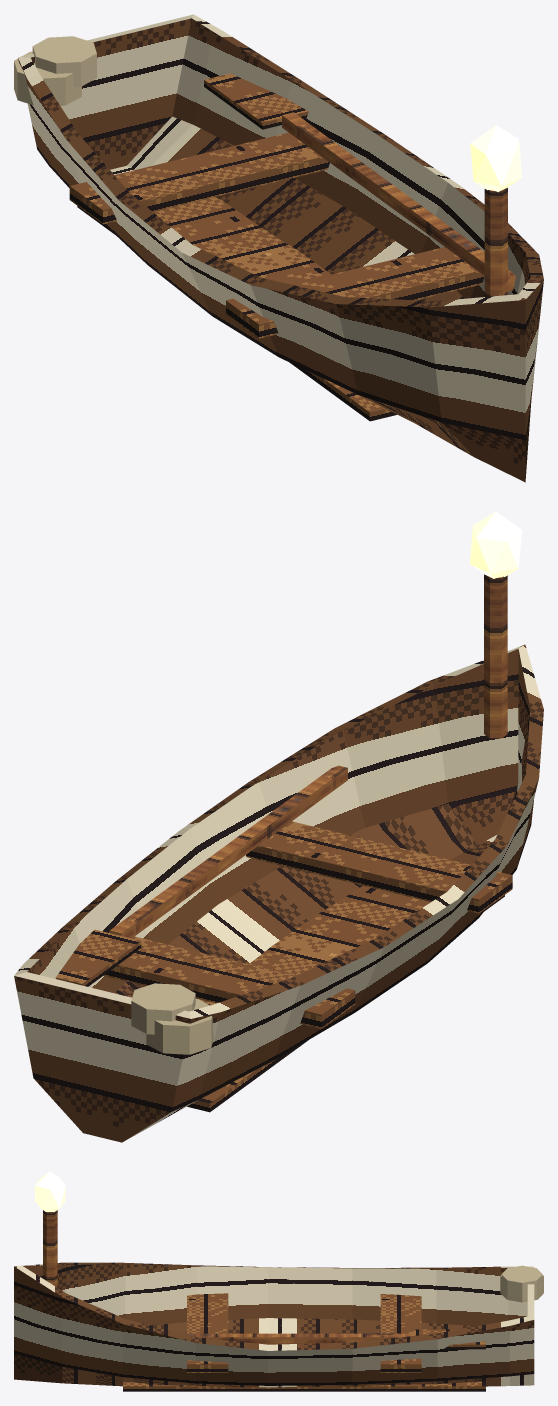
File: safari_boat.glb
3 views of the same model, one above another, from view 1: azimuth 30°, elevation 25°; view 2: azimuth 150°, elevation 25°; view 3: azimuth 270°, elevation 25° (orthographic). The views are drawn at different scales.
Visible parts, largest first — view 1: Boat, Glow; view 2: Boat, Glow; view 3: Boat, Glow.
Boxes of the visible parts, x1=… form: Boat: x1=14, y1=14, x2=543, y2=482; Glow: x1=470, y1=125, x2=522, y2=192; Boat: x1=14, y1=574, x2=543, y2=1142; Glow: x1=469, y1=511, x2=521, y2=578; Boat: x1=14, y1=1210, x2=543, y2=1391; Glow: x1=35, y1=1171, x2=65, y2=1211.
Bounding box in the file's own units: 1.64 × 1.9 × 4.38.
Materials: 6 (3 with a texture image).
